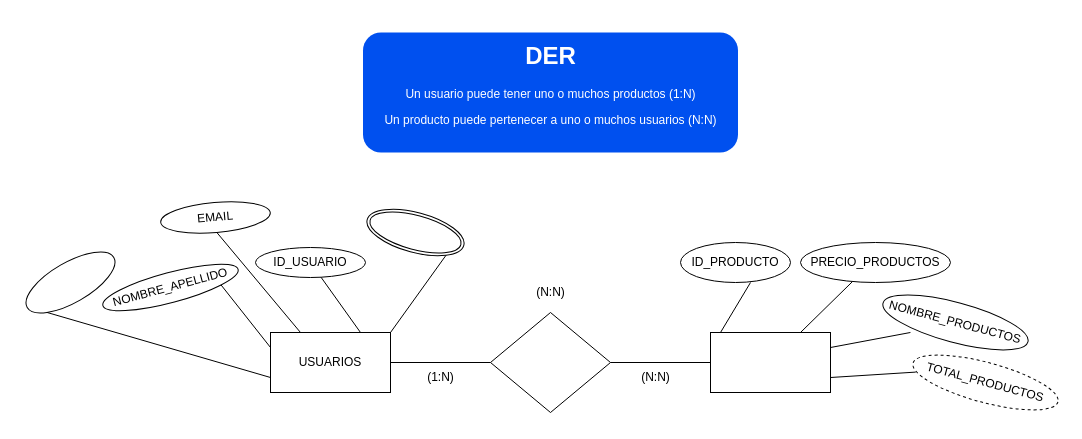
Some shapes in this 1082 by 439 pixel diagram are drawn without their labels. The shapes that lost their labels are listed below. From the top down, each one's centre as x and y in pixels, then its label:
[415,232]: TELEFONO
[70,282]: METODO_PAGO
[550,362]: USERxPROD
[770,362]: PRODUCTOS
